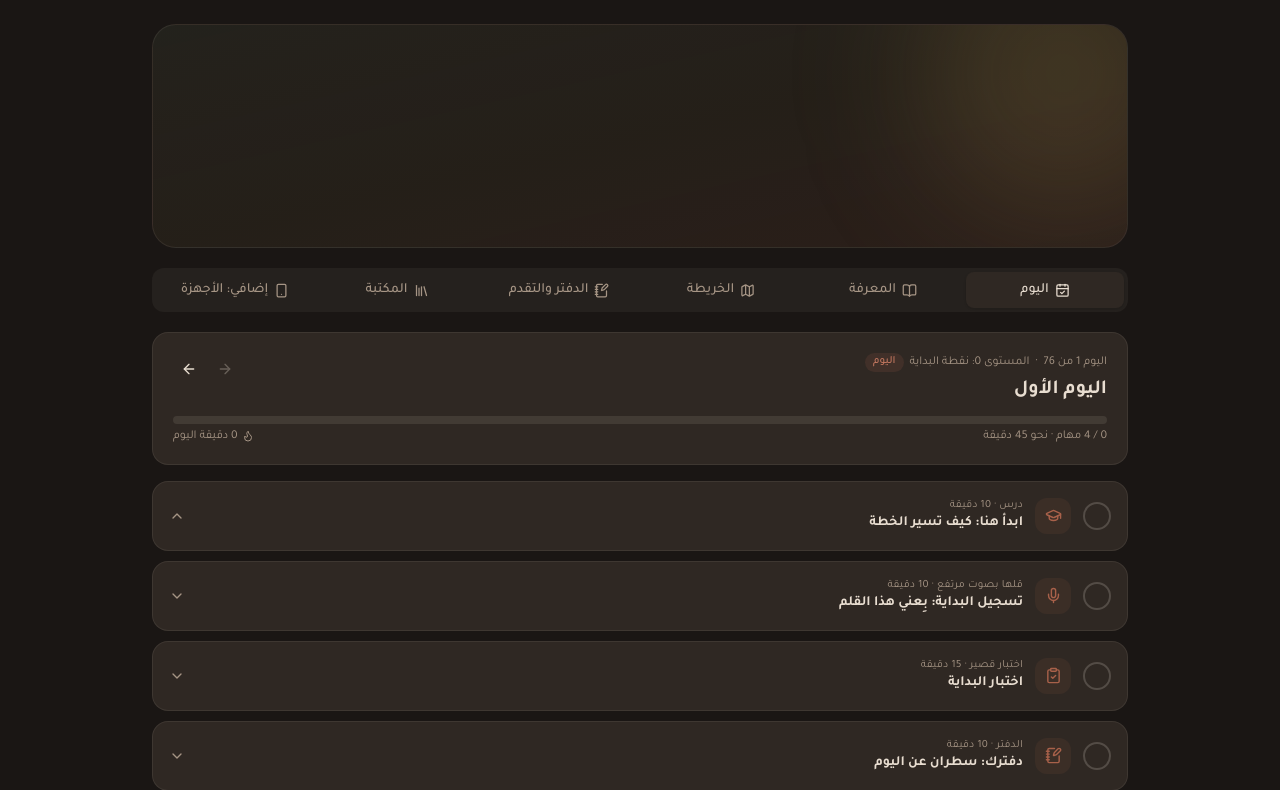
Scenario: Sales Prep: knowledge first, electronics as an extra › keeps electronics in the extra tab, outside the plan
The width and height of the screenshot is (1280, 790).
Click the tab "إضافي: الأجهزة": click(235, 290) x1=156 y1=272 x2=314 y2=308
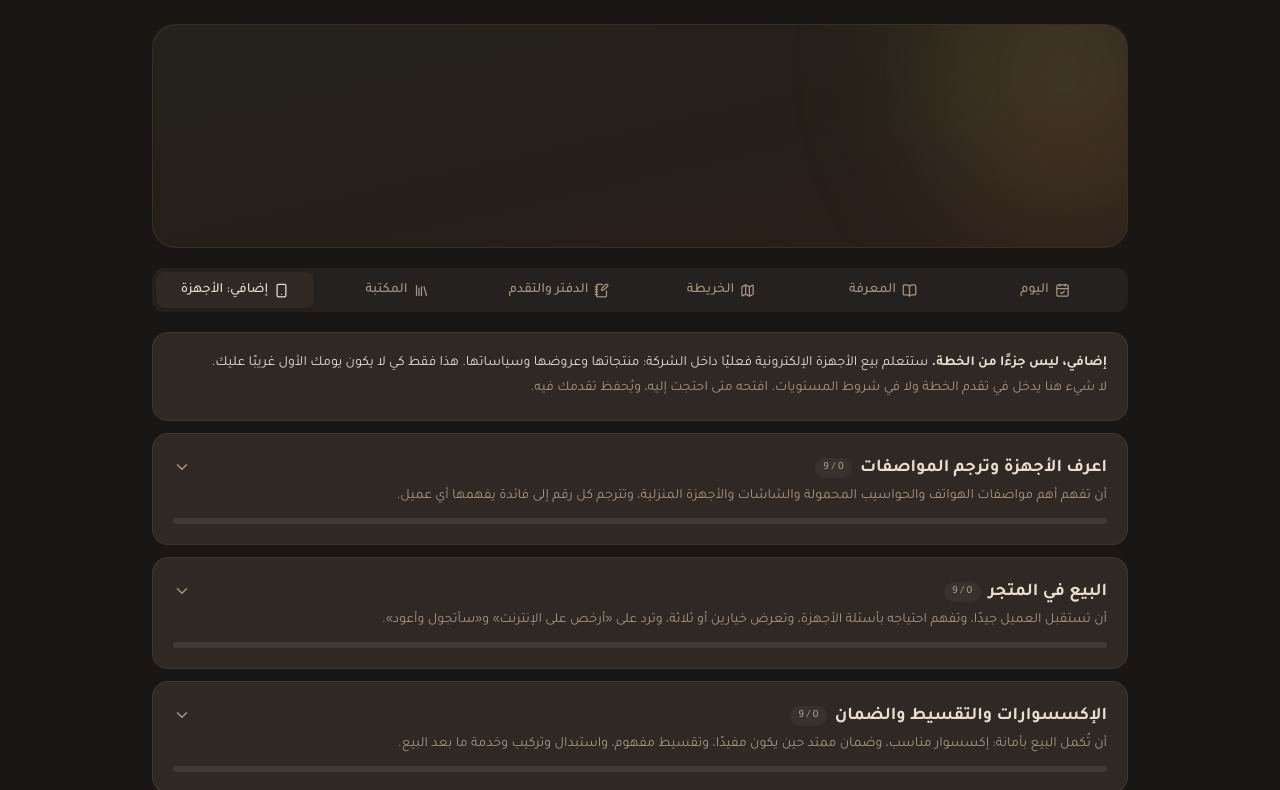
Click the heading "اعرف الأجهزة وترجم المواصفات": click(983, 468) x1=860 y1=454 x2=1107 y2=482
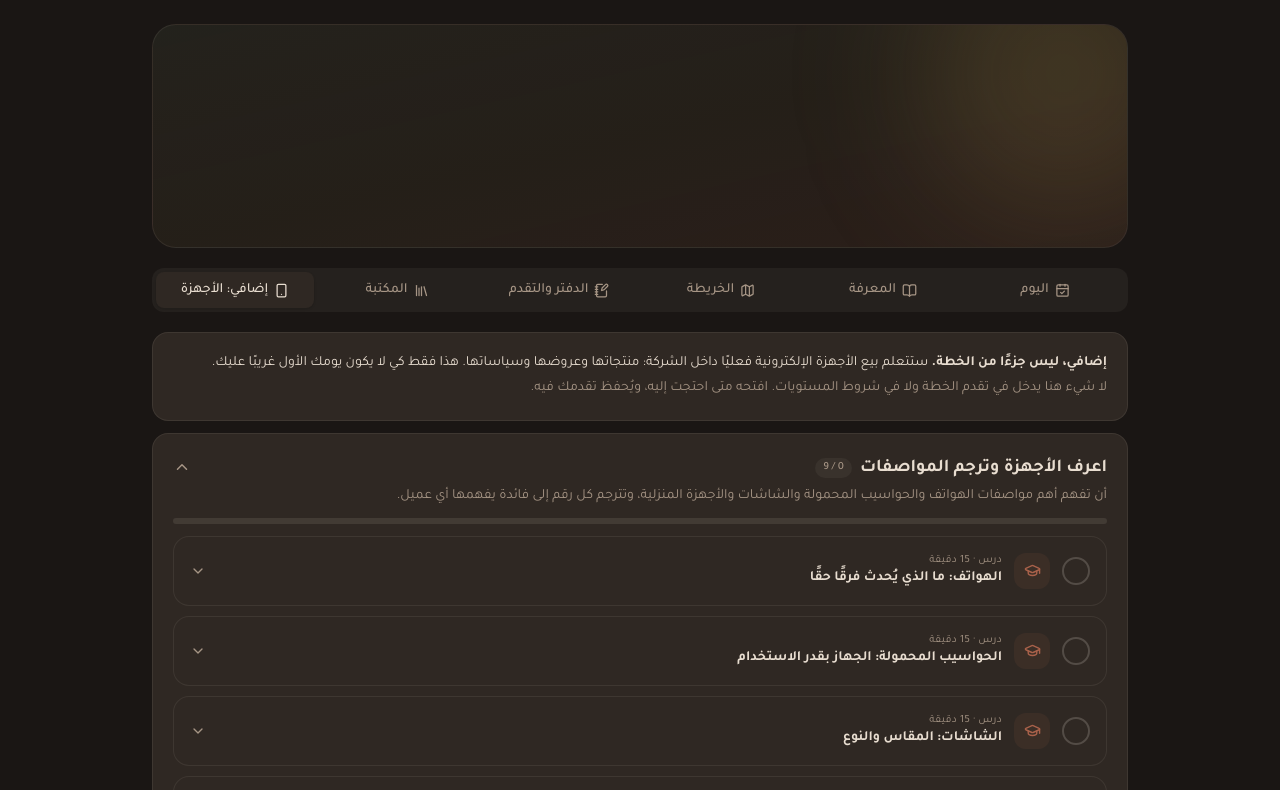
Click the text "الهواتف: ما الذي يُحدث فرقًا حقًا": click(906, 578) x1=810 y1=571 x2=1002 y2=585
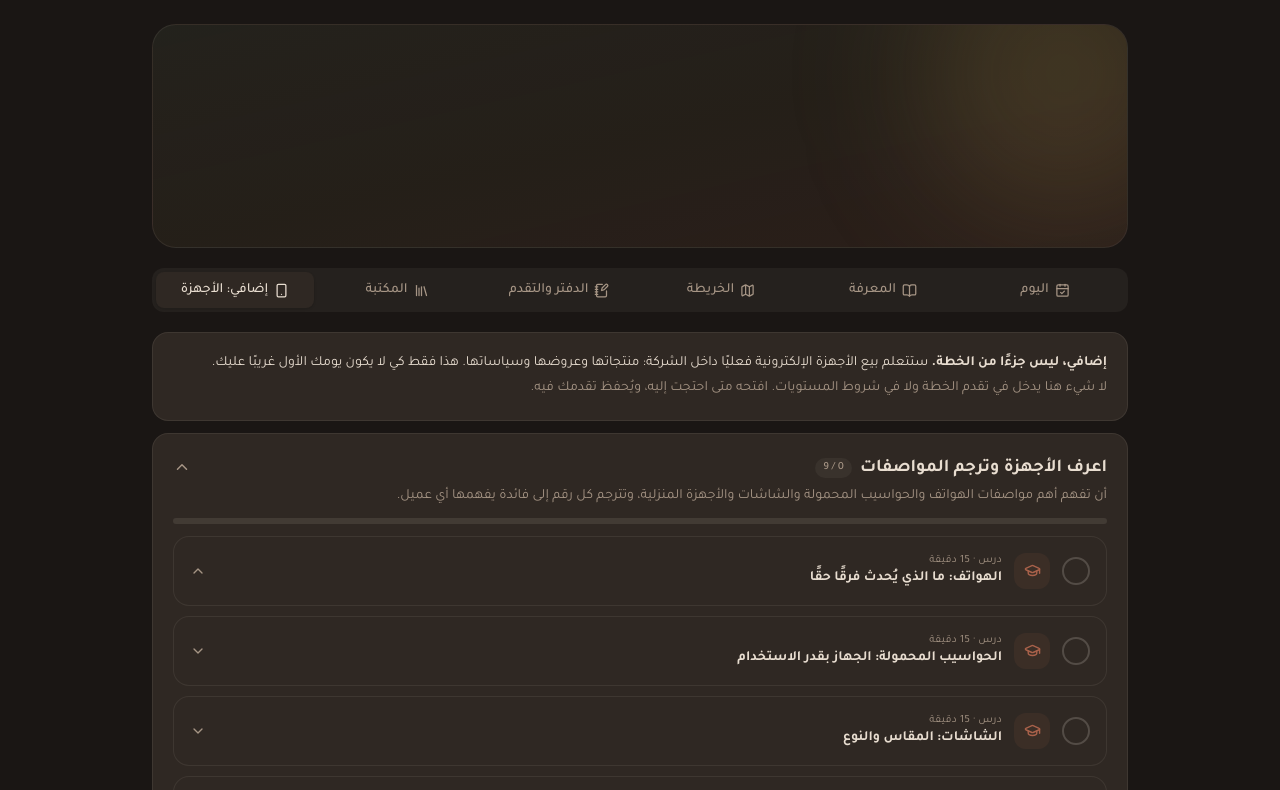
Click the 1st button named "علّمها منجزة": click(1076, 571) x1=1062 y1=557 x2=1090 y2=585
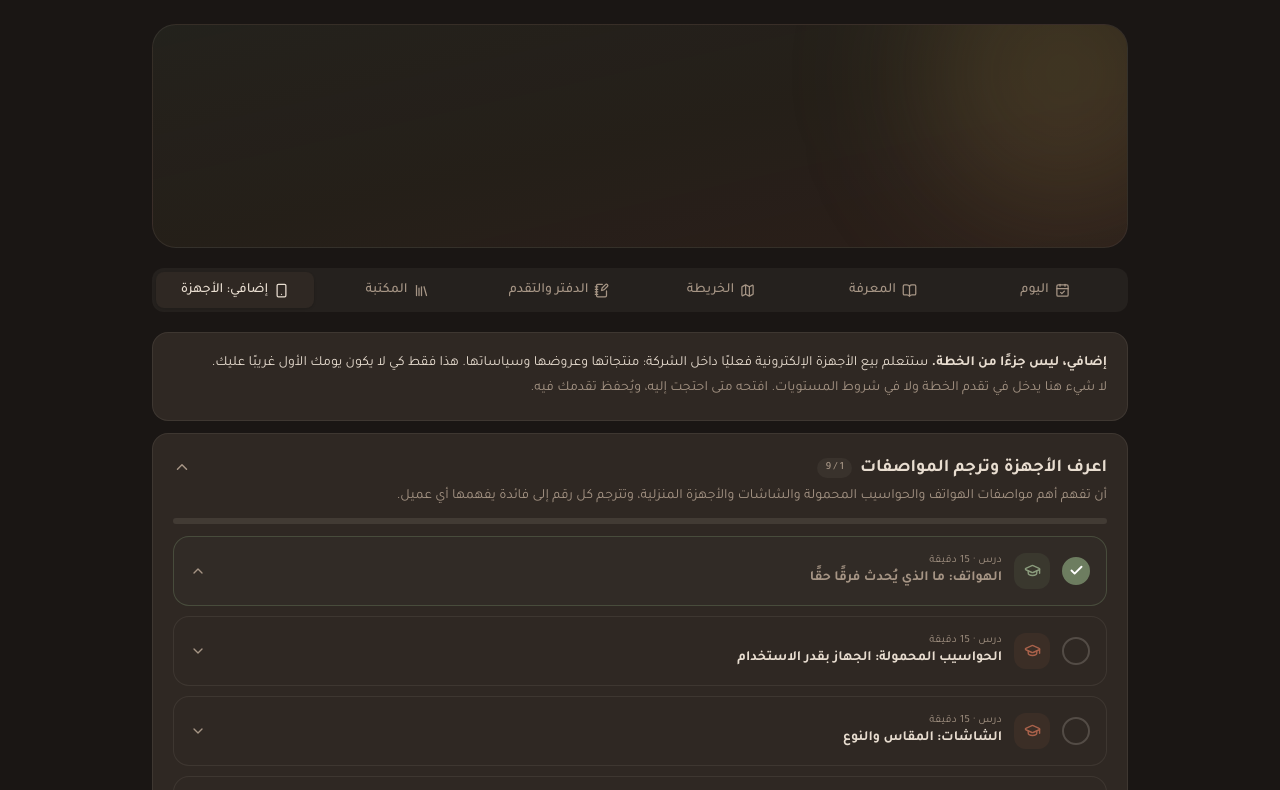
The plan itself didn't move.
Click the tab "اليوم": click(1045, 290) x1=966 y1=272 x2=1124 y2=308
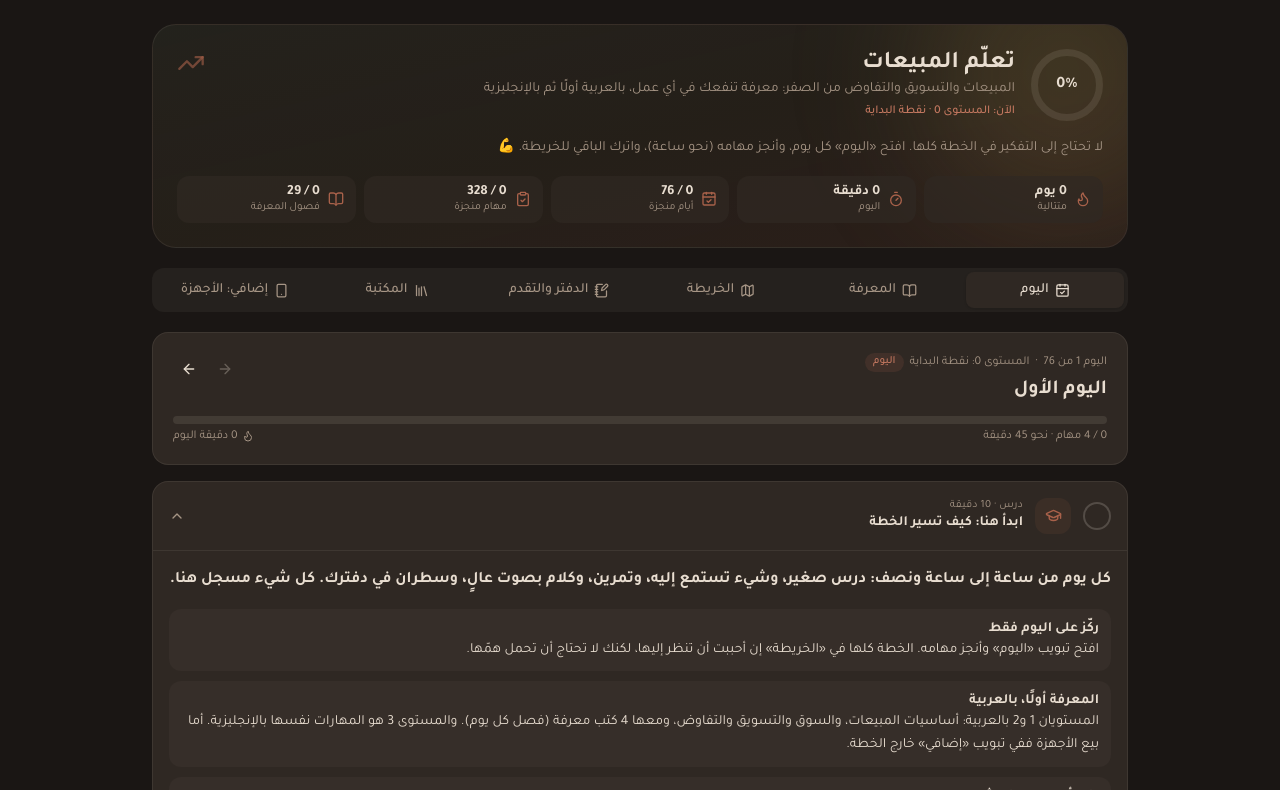
Expected: the heading "اليوم الأول" is shown, x1=1014 y1=380 x2=1107 y2=400
